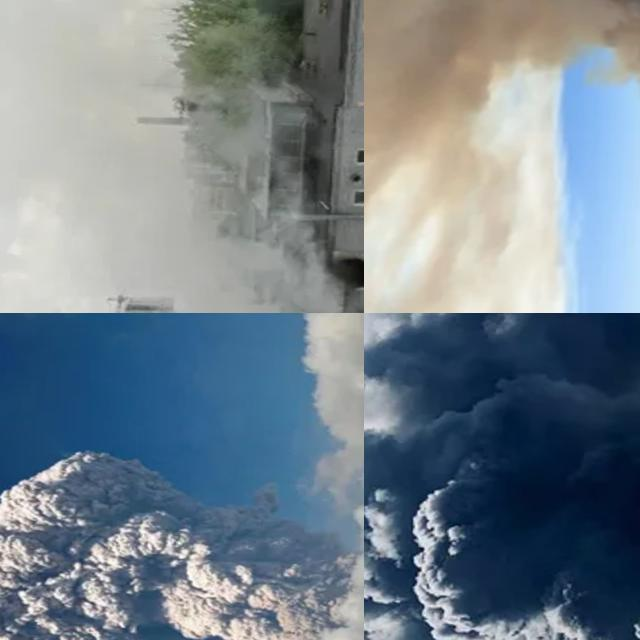smoke: (364, 313, 640, 640), (0, 446, 347, 640), (0, 182, 354, 313), (473, 0, 640, 127)
